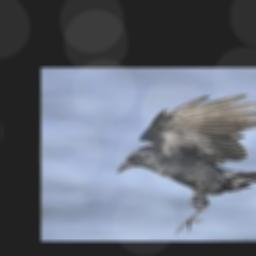Crow: (114, 94, 256, 237)
